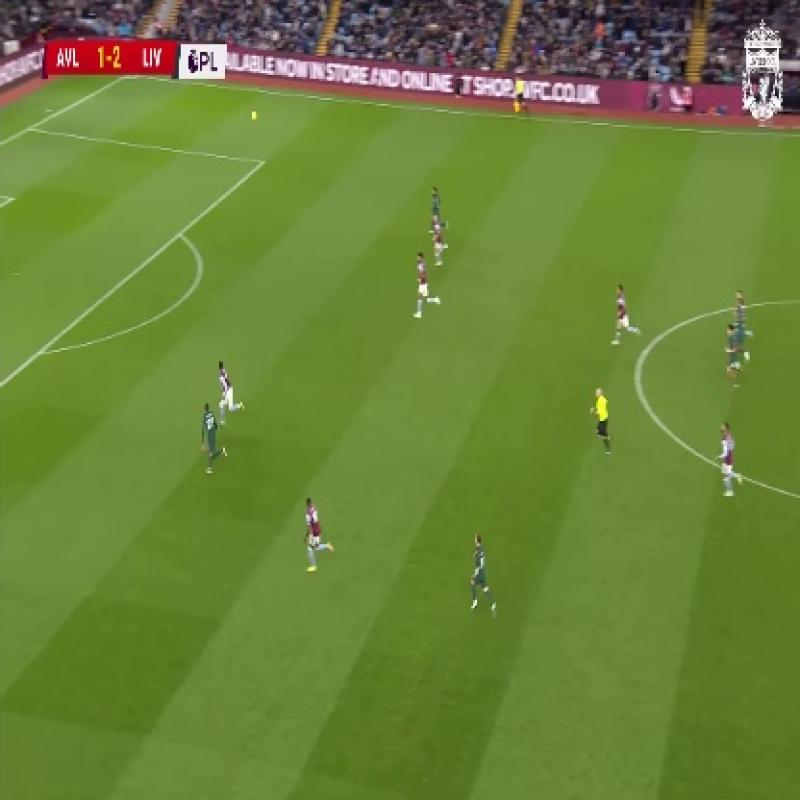1: (116, 69, 136, 85)
10: (169, 221, 187, 244)
11: (29, 336, 50, 364)
2: (20, 116, 40, 138)
7: (2, 186, 20, 208)
9: (252, 148, 271, 173)
c: (624, 342, 656, 386)
